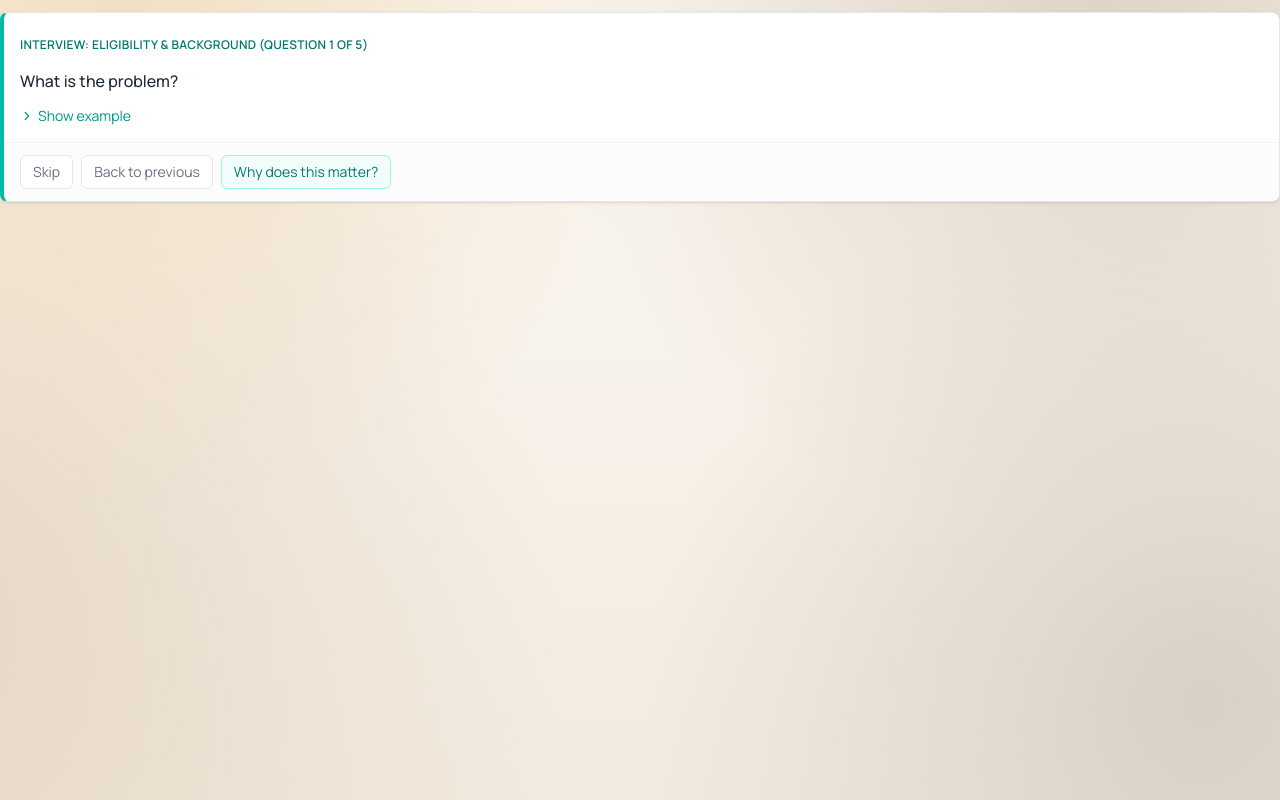
Test case: component coverage and failure/security behaviors › InterviewQuestionBlock toggles examples
Click the button "Show example".
click(75, 116)  # box [20,106,131,126]
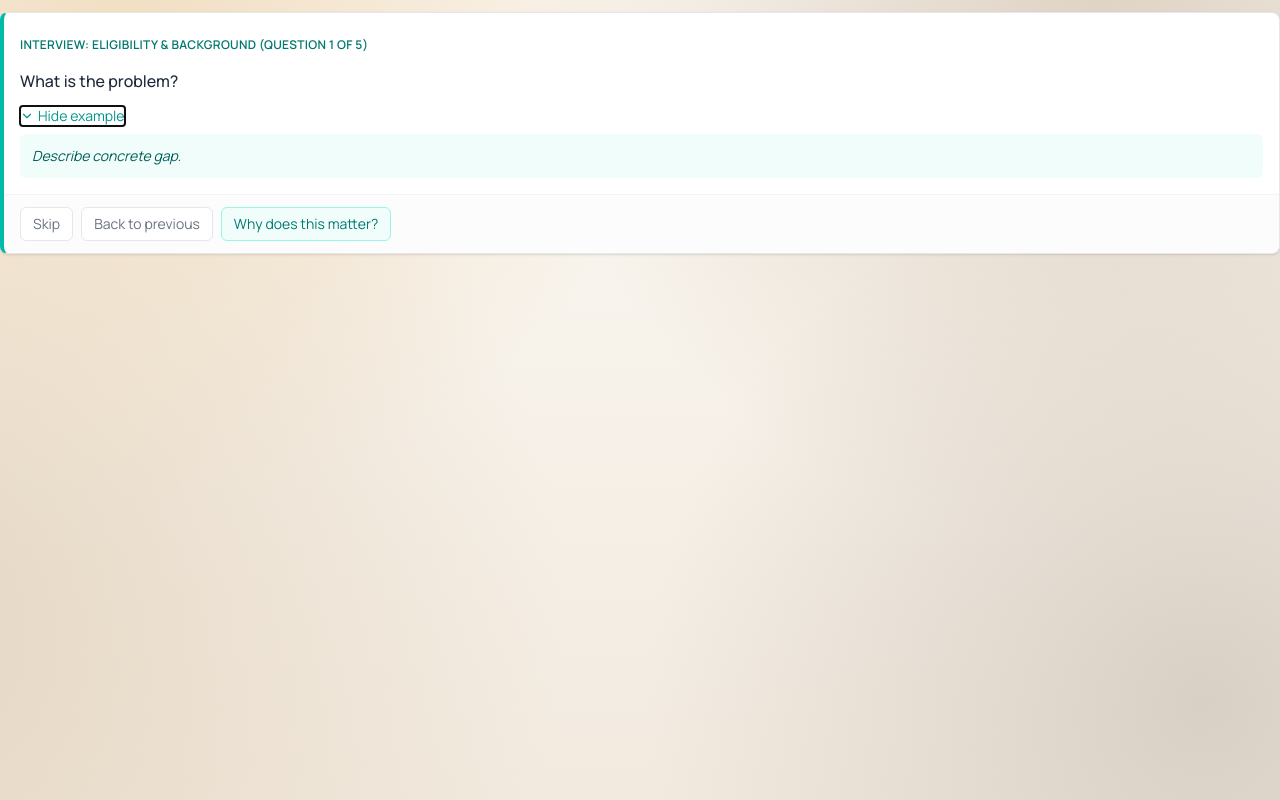
Expected: the text "Describe concrete gap." is shown, [20,134,1263,178]
